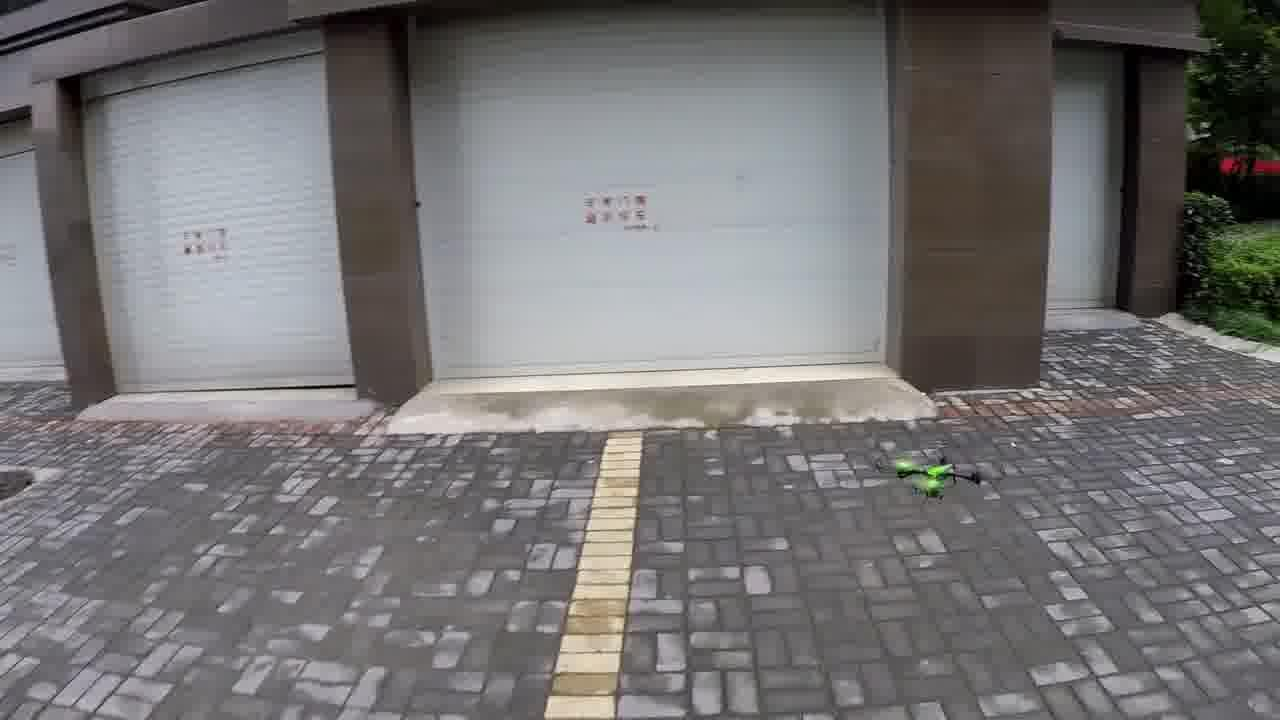drone: (873, 436, 1010, 502)
